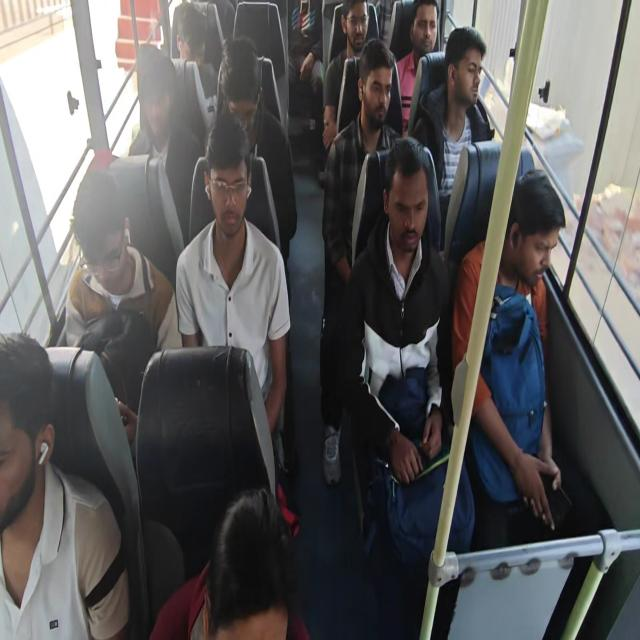person: (340, 135, 476, 637), (451, 168, 566, 546), (175, 112, 291, 462), (0, 331, 131, 638), (319, 38, 403, 486), (58, 168, 183, 444), (149, 486, 296, 639), (215, 36, 297, 300), (412, 25, 494, 250), (124, 44, 201, 278), (318, 0, 369, 186), (171, 1, 218, 150), (395, 0, 438, 135)
